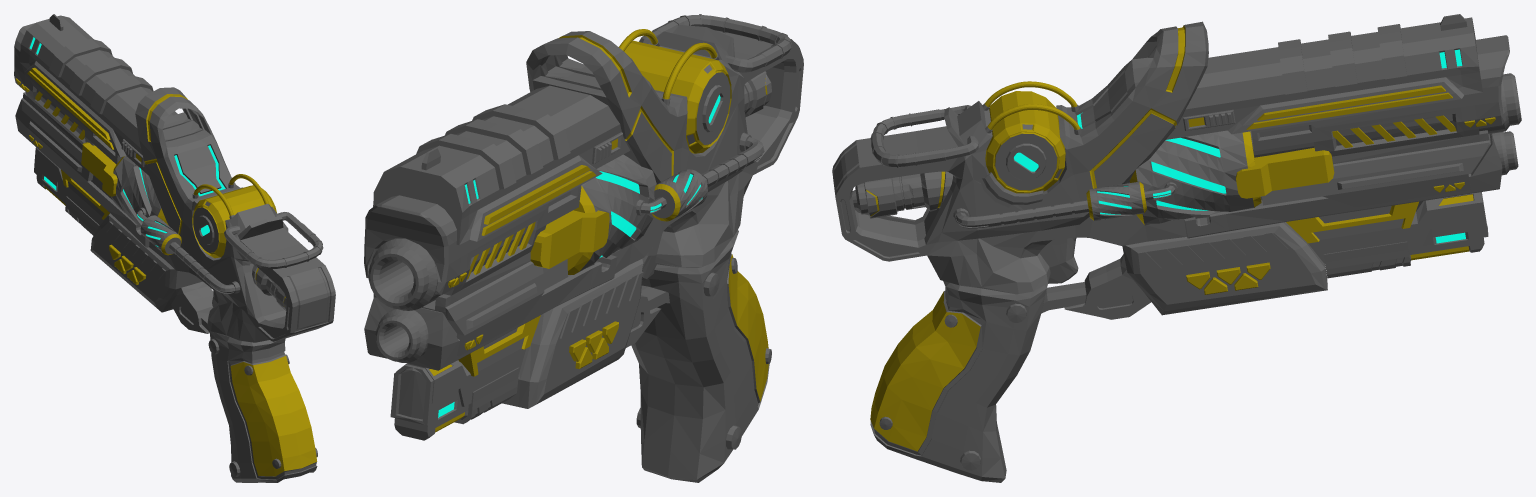
Rendered from remake_330.glb.
The picture shows the model from 3 angles, left to right: view 1: azimuth 30°, elevation 25°; view 2: azimuth 150°, elevation 25°; view 3: azimuth 270°, elevation 25°; orthographic projection. The views are drawn at different scales.
Parts seen in each view (by area): view 1: remake_330; view 2: remake_330; view 3: remake_330.
Part boxes in pixels (x1=…): remake_330: x1=14, y1=14, x2=335, y2=482; remake_330: x1=364, y1=14, x2=803, y2=482; remake_330: x1=832, y1=14, x2=1521, y2=482.
Size of the model in its own units: 0.119 by 0.3868 by 0.5406.
